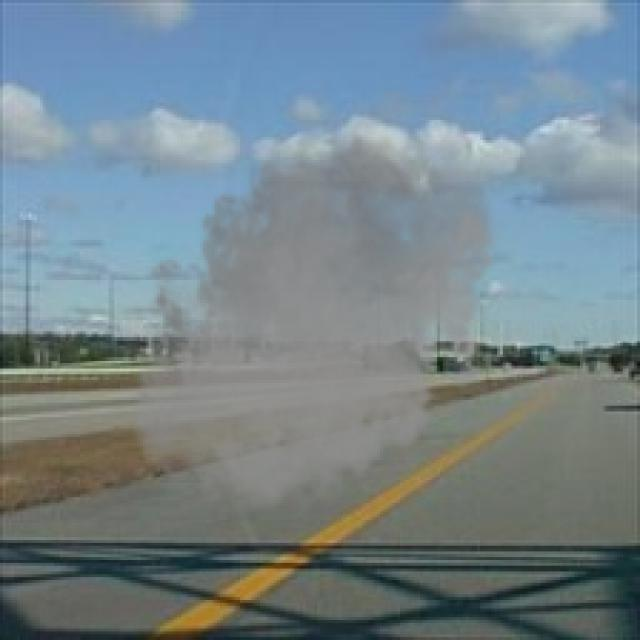Smoke: (126, 106, 508, 526)
